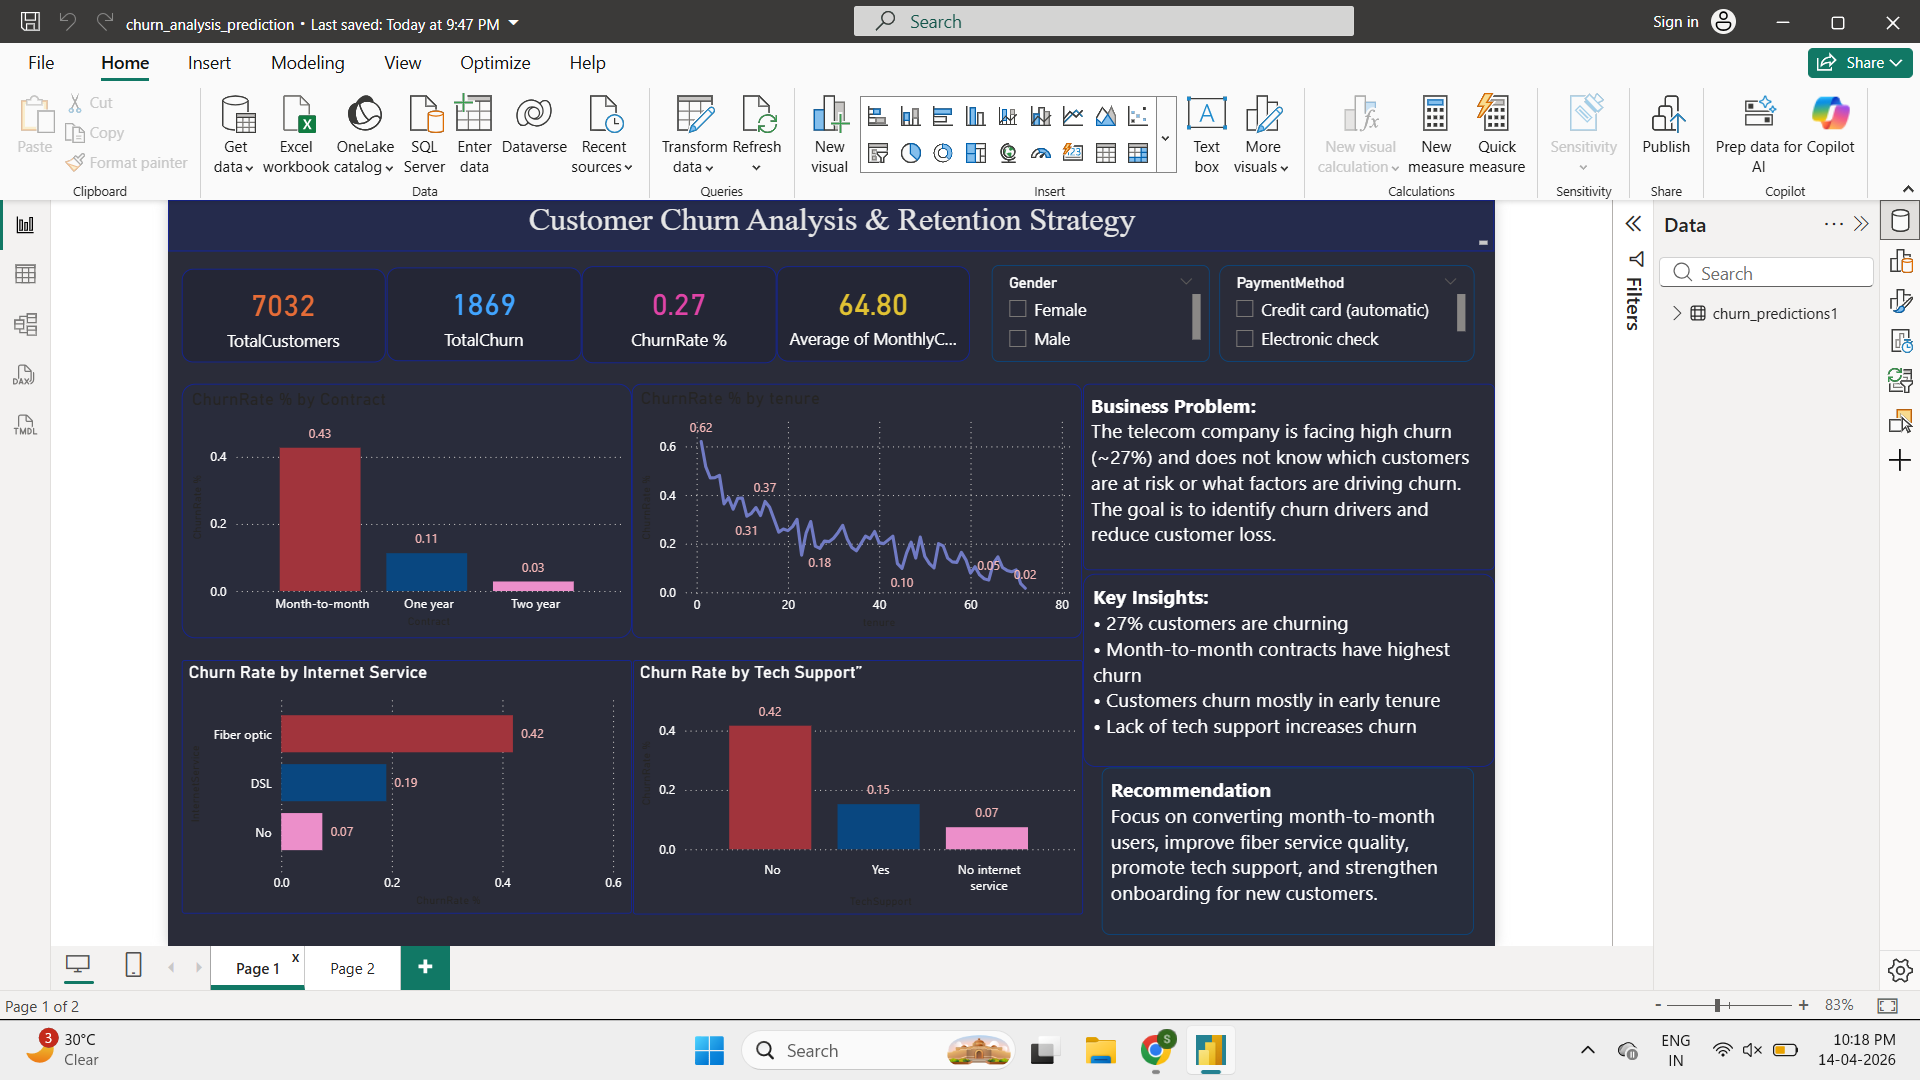

The page's visual inventory and layout, read from the dashboard file:
{"tool":"powerbi","page":{"name":"Page 1","canvas":[1280,720],"ordinal":0},"visuals":[{"type":"textbox","title":"Customer Churn Analysis & Retention Strategy","box":[0,0,1280,49.5],"z":0},{"type":"card","fields":{"Values":["churn_predictions1.TotalCustomers"]},"box":[12.7,66.5,196.6,90.5],"z":1},{"type":"card","fields":{"Values":["churn_predictions1.ChurnRate %"]},"box":[398.9,63.6,188.1,93.3],"z":2},{"type":"card","fields":{"Values":["Avg(churn_predictions1.MonthlyCharges)"]},"box":[587,63.6,186.7,91.9],"z":3},{"type":"card","fields":{"Values":["churn_predictions1.TotalChurn"]},"box":[210.7,65.1,188.1,90.5],"z":4},{"type":"columnChart","fields":{"Category":["churn_predictions1.Contract"],"Y":["churn_predictions1.ChurnRate %"]},"box":[13,177.5,434.3,245.3],"z":5},{"type":"lineChart","fields":{"Category":["churn_predictions1.tenure"],"Y":["churn_predictions1.ChurnRate %"]},"box":[447.3,177.5,434.3,245.3],"z":6},{"type":"lineStackedColumnComboChart","title":"Churn Rate by Tech Support”","fields":{"Category":["churn_predictions1.TechSupport"],"Y":["churn_predictions1.ChurnRate %"]},"box":[448.7,444.4,434.3,245.3],"z":7},{"type":"barChart","title":"Churn Rate by Internet Service","fields":{"Category":["churn_predictions1.InternetService"],"Y":["churn_predictions1.ChurnRate %"]},"box":[13,444,434,245],"z":8},{"type":"textbox","box":[882.6,176.8,397.4,179.6],"z":9},{"type":"textbox","box":[882.6,360.7,397.4,186.7],"z":10},{"type":"slicer","fields":{"Values":["churn_predictions1.PaymentMethod"]},"box":[1014.1,62.2,246.1,93.3],"z":11},{"type":"slicer","fields":{"Values":["churn_predictions1.Gender"]},"box":[794.9,62.2,210.7,93.3],"z":12},{"type":"textbox","box":[901,547.4,359.2,161.2],"z":13}]}

Visuals, with their boxes on the page's 1280x720 design canvas (x1, y1, x2, y2). These are canvas units, not pixel positions in the 1920x1080 screenshot, which may show the page scaled, cropped or inside an application window:
"Customer Churn Analysis & Retention Strategy" textbox: Rect(0, 0, 1280, 50)
card - churn_predictions1.TotalCustomers: Rect(13, 66, 209, 157)
card - churn_predictions1.ChurnRate %: Rect(399, 64, 587, 157)
card - Avg(churn_predictions1.MonthlyCharges): Rect(587, 64, 774, 156)
card - churn_predictions1.TotalChurn: Rect(211, 65, 399, 156)
columnChart - churn_predictions1.Contract x churn_predictions1.ChurnRate %: Rect(13, 178, 447, 423)
lineChart - churn_predictions1.tenure x churn_predictions1.ChurnRate %: Rect(447, 178, 882, 423)
"Churn Rate by Tech Support”" lineStackedColumnComboChart: Rect(449, 444, 883, 690)
"Churn Rate by Internet Service" barChart: Rect(13, 444, 447, 689)
textbox: Rect(883, 177, 1280, 356)
textbox: Rect(883, 361, 1280, 547)
slicer - churn_predictions1.PaymentMethod: Rect(1014, 62, 1260, 156)
slicer - churn_predictions1.Gender: Rect(795, 62, 1006, 156)
textbox: Rect(901, 547, 1260, 709)
